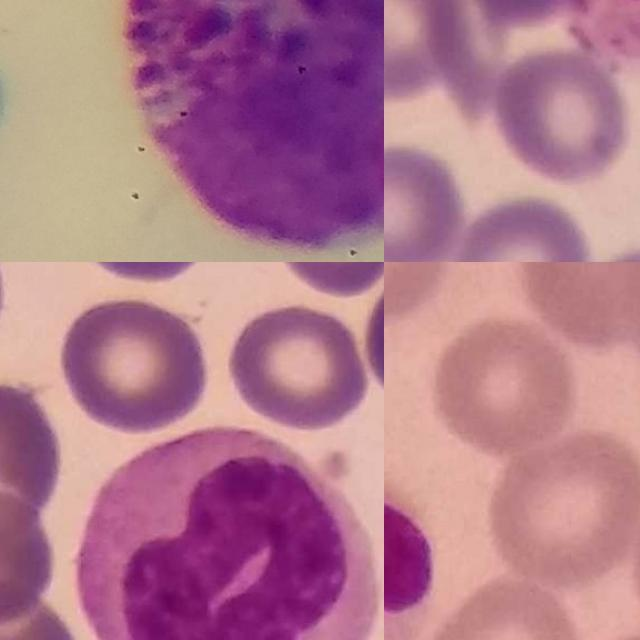Basophil: (127, 0, 384, 252)
Monocyte: (74, 422, 380, 640)
